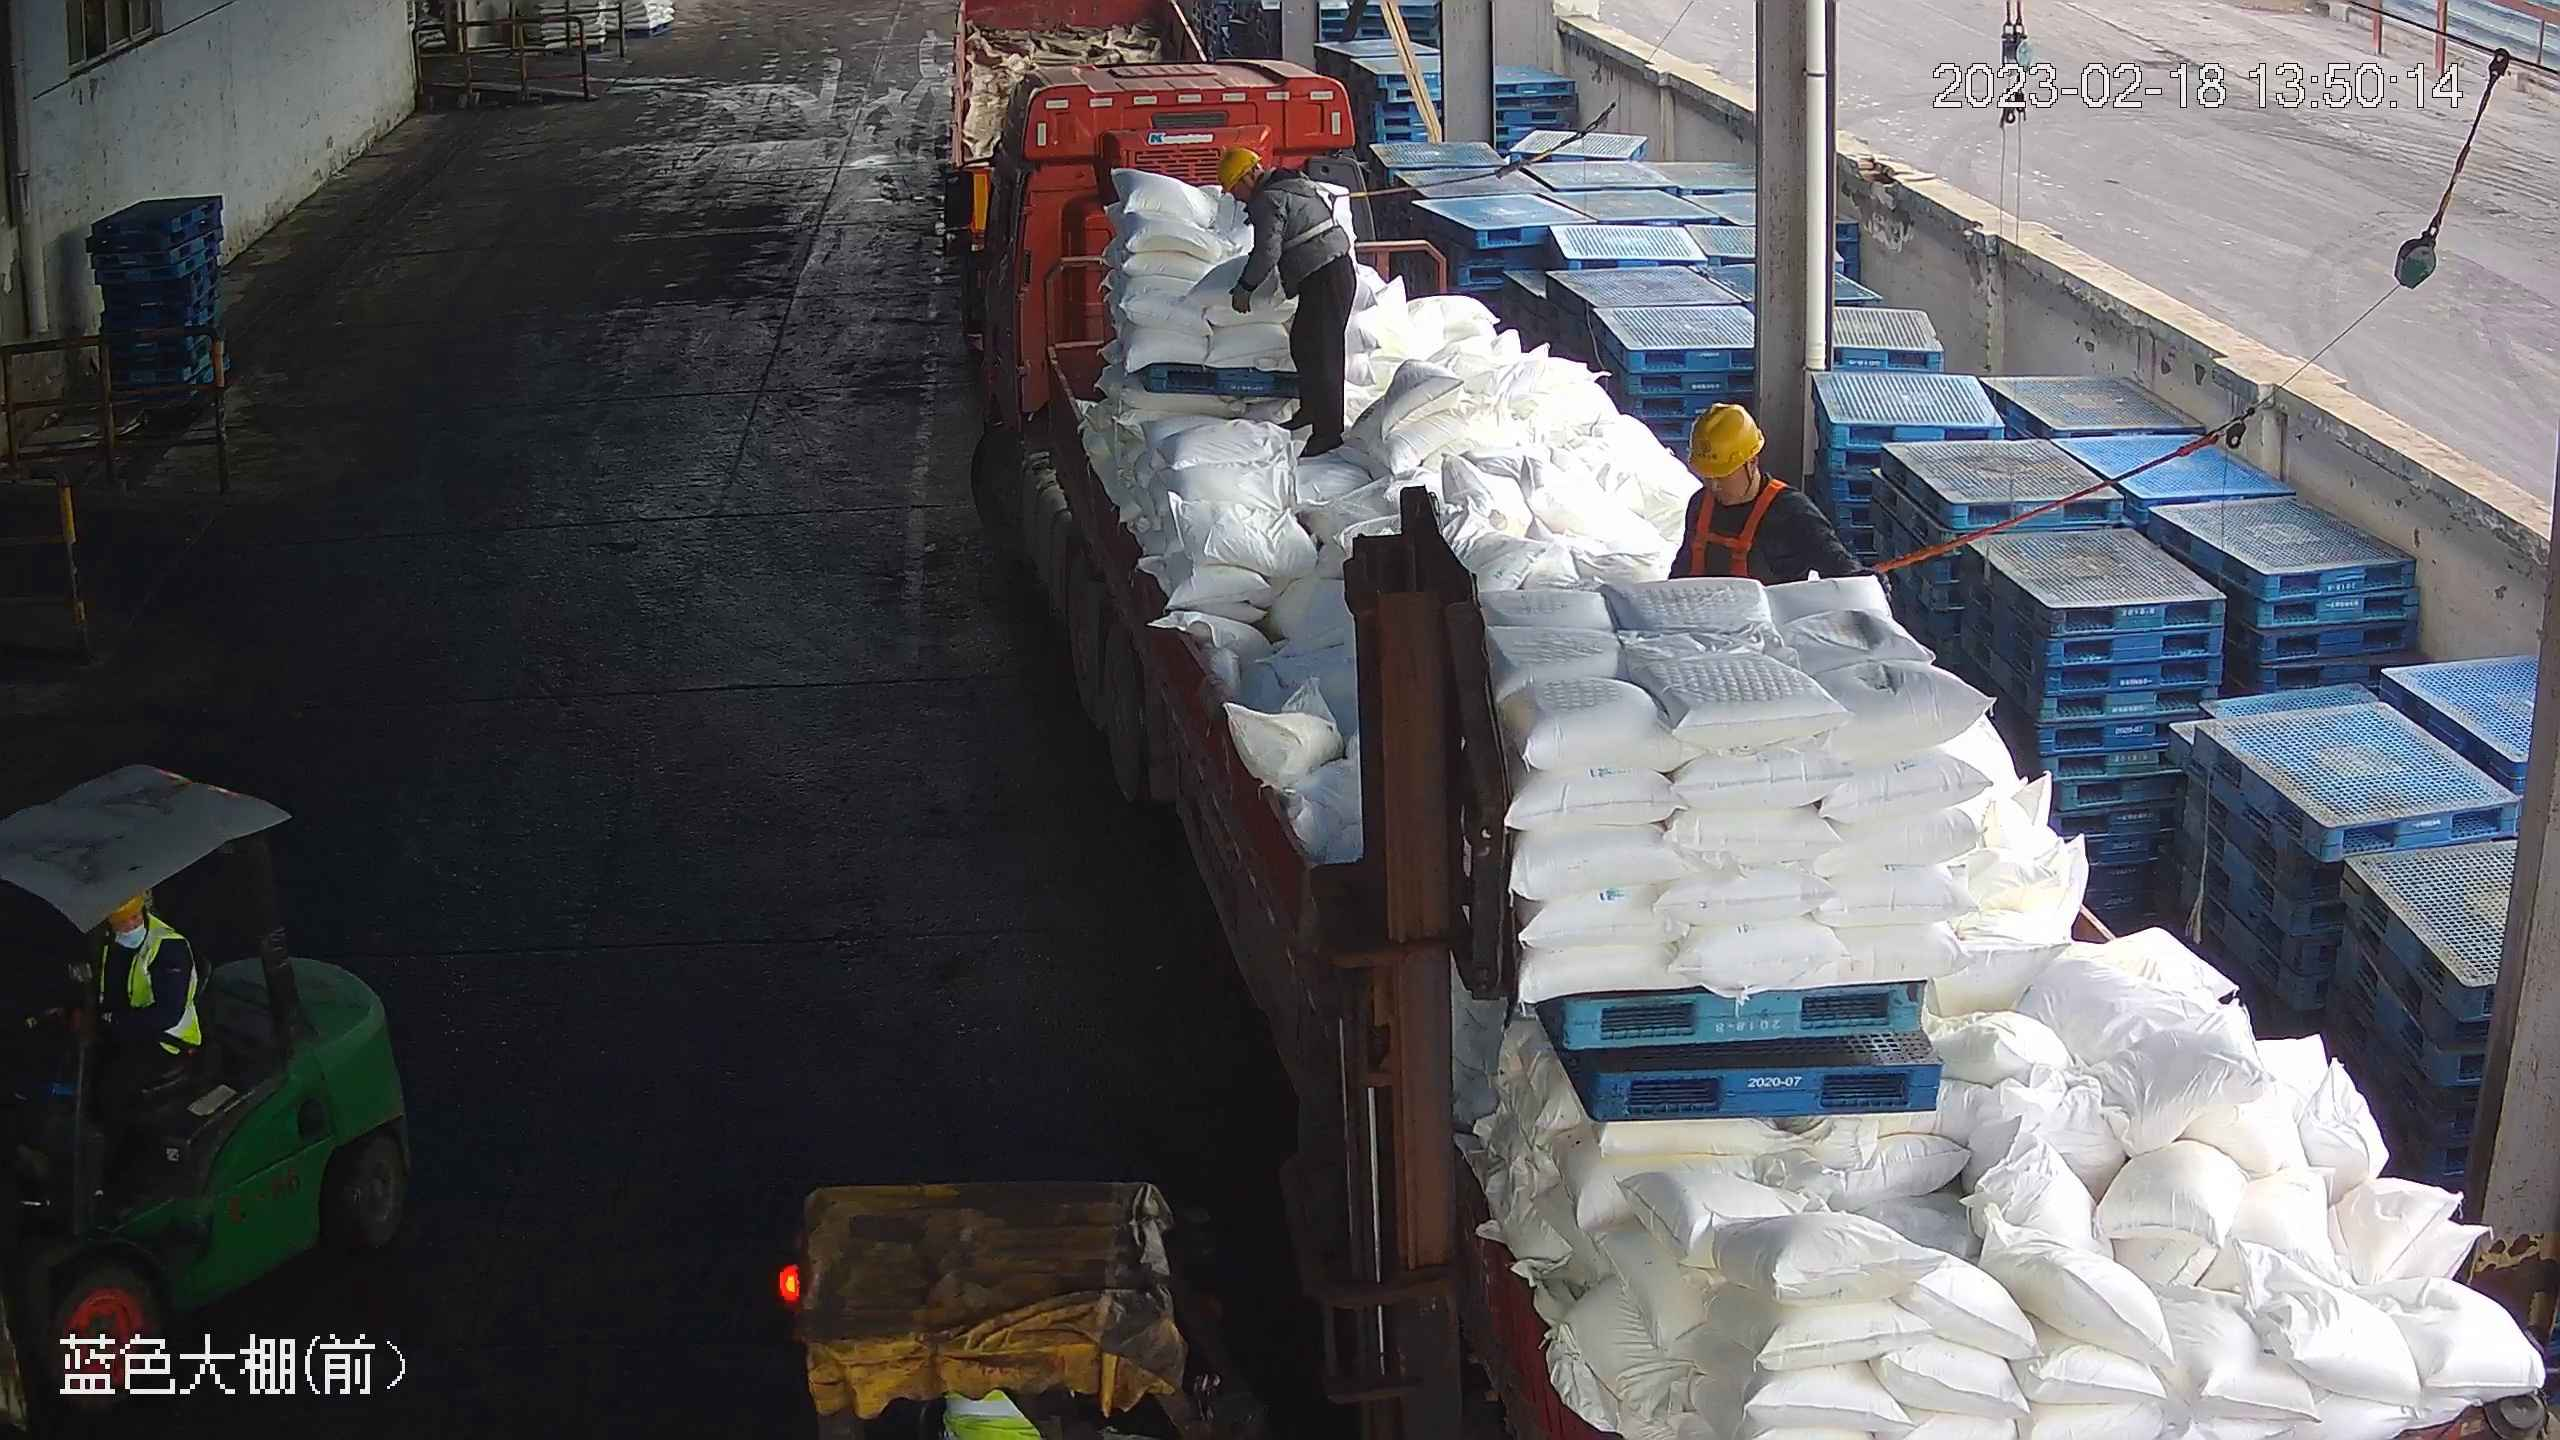belt: (1687, 475, 1830, 583), (1270, 168, 1357, 246)
head: (1669, 400, 1826, 539), (1212, 146, 1331, 231)
helmet: (1686, 399, 1764, 477), (1213, 145, 1264, 194)
people: (13, 896, 205, 1193), (1215, 144, 1361, 456)
truck: (940, 38, 2556, 1440)
